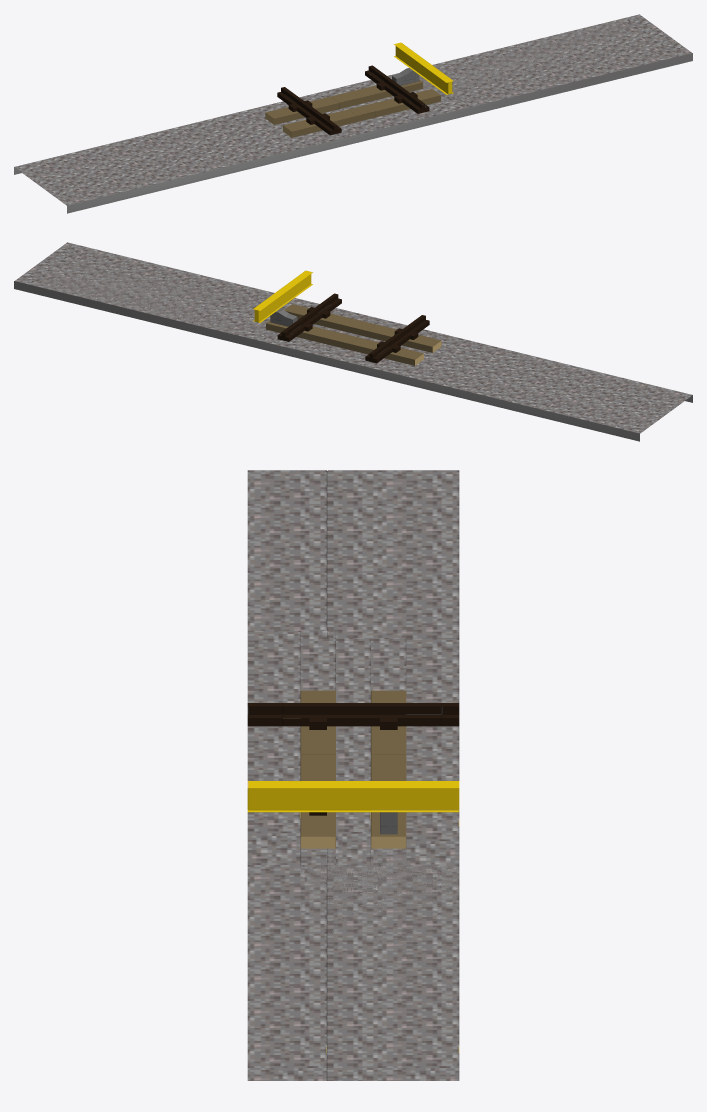
The model's file is athen-metro-rail-6.obj.
The picture shows the model from 3 angles, top to bottom: view 1: azimuth 30°, elevation 25°; view 2: azimuth 150°, elevation 25°; view 3: azimuth 270°, elevation 25°; orthographic projection. The views are drawn at different scales.
Parts seen in each view (by area): view 1: cube; view 2: cube; view 3: cube.
Boxes of the visible parts, x1=… form: cube: x1=14, y1=14, x2=692, y2=213; cube: x1=14, y1=242, x2=692, y2=441; cube: x1=247, y1=470, x2=459, y2=1080.
Bounding box in the file's own units: 10.25 × 0.5952 × 1.5.
Materials: 2 (2 with a texture image).
